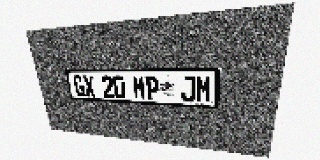0: (112, 76, 126, 99)
2: (101, 75, 115, 98)
G: (72, 75, 86, 97)
J: (181, 76, 196, 102)
M: (196, 76, 212, 103), (132, 76, 146, 100)
P: (145, 76, 159, 100)
X: (82, 75, 96, 97)
